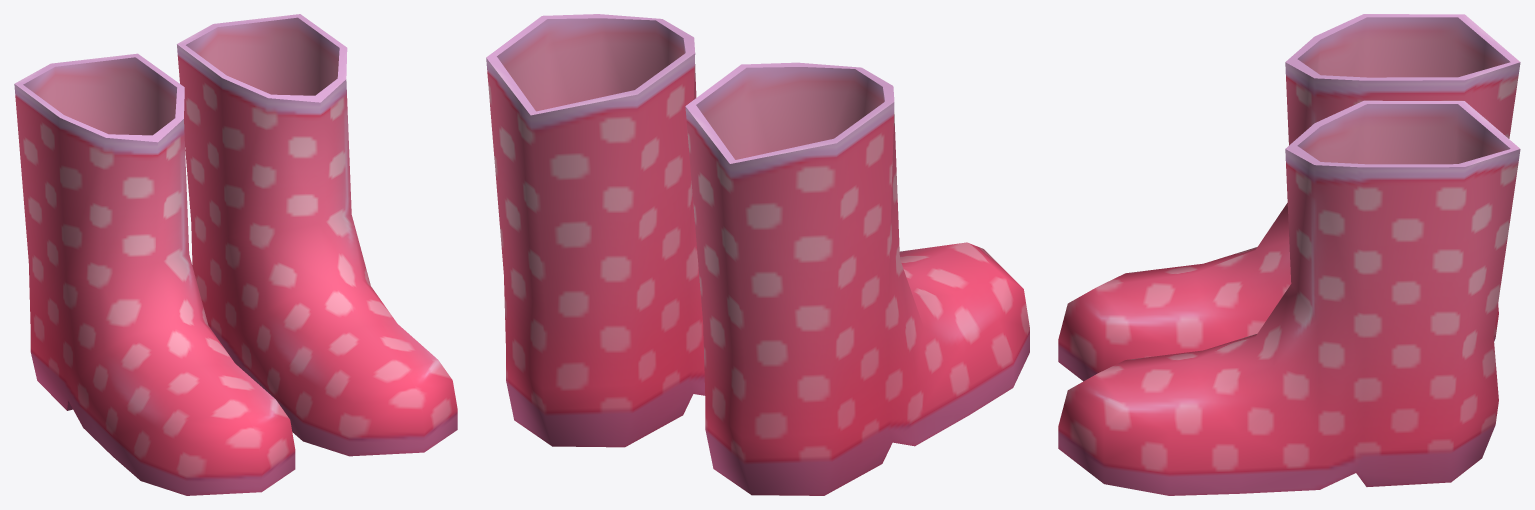
Rendered from set_rainboots_02.fbx.
3 renders of one model, left to right at view 1: azimuth 30°, elevation 25°; view 2: azimuth 150°, elevation 25°; view 3: azimuth 270°, elevation 25°, orthographic. The views are drawn at different scales.
Parts seen in each view (by area): view 1: rainboots_02_R, rainboots_02_L; view 2: rainboots_02_R, rainboots_02_L; view 3: rainboots_02_L, rainboots_02_R.
Boxes of the visible parts, x1,y1,x2,y2 form: rainboots_02_R: (14, 53, 295, 495); rainboots_02_L: (177, 14, 457, 456); rainboots_02_R: (685, 62, 1029, 495); rainboots_02_L: (486, 14, 705, 447); rainboots_02_L: (1058, 100, 1520, 495); rainboots_02_R: (1058, 14, 1520, 381).
Bounding box in the file's own units: 20.89 × 19.47 × 25.15.
